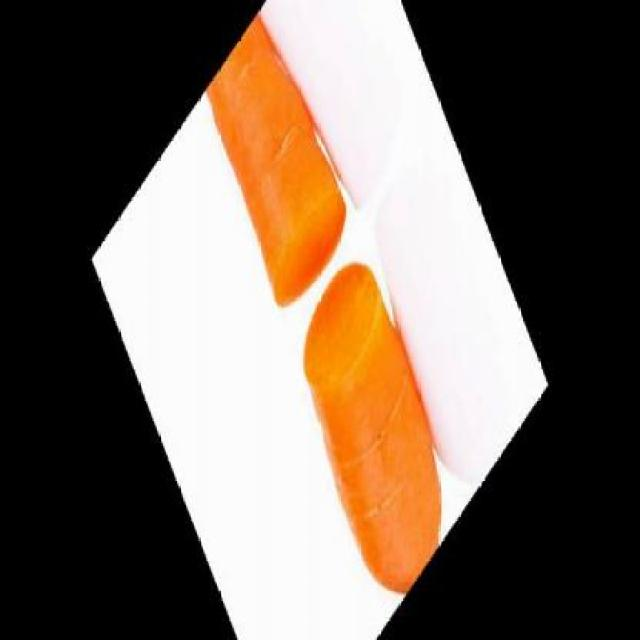carrot: (280, 260, 449, 602), (197, 10, 349, 317)
